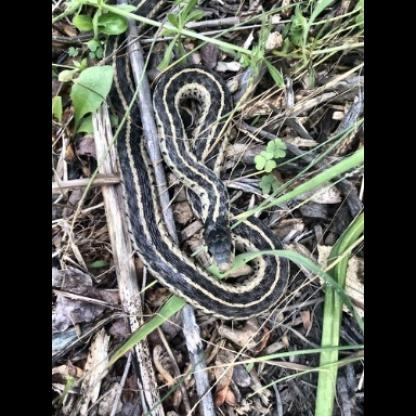Snake: (106, 43, 292, 320)
